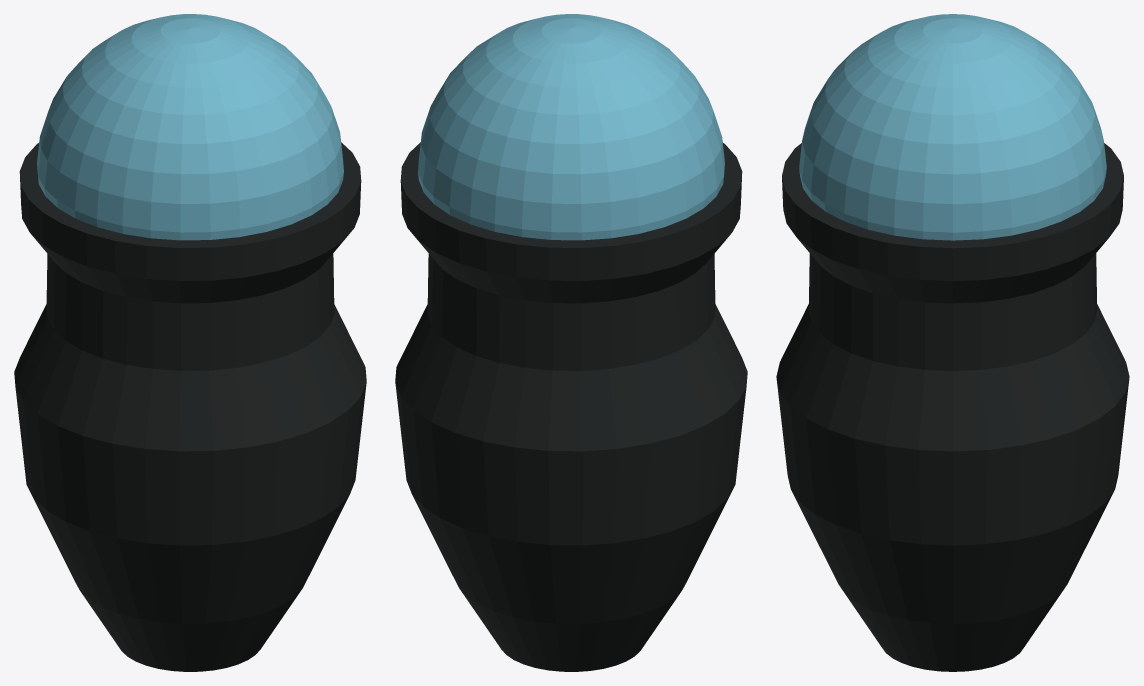
File: SK_P_Smashroom_02_Lvl2.fbx
The picture shows the model from 3 angles, left to right: view 1: azimuth 30°, elevation 25°; view 2: azimuth 150°, elevation 25°; view 3: azimuth 270°, elevation 25°; orthographic projection.
Parts seen in each view (by area): view 1: Pot_02_Lvl2; view 2: Pot_02_Lvl2; view 3: Pot_02_Lvl2.
Part boxes in pixels (x1=…): Pot_02_Lvl2: x1=14, y1=14, x2=366, y2=671; Pot_02_Lvl2: x1=395, y1=14, x2=747, y2=671; Pot_02_Lvl2: x1=776, y1=14, x2=1129, y2=671.
Bounding box in the file's own units: 59.83 × 59.83 × 115.
